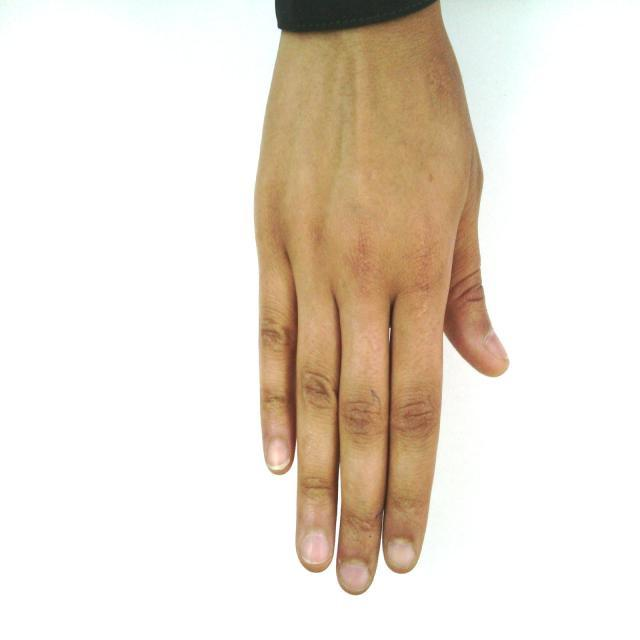Fingernail: (339, 559, 370, 593), (387, 537, 416, 570), (301, 532, 329, 565), (267, 437, 290, 470), (485, 333, 510, 361)
